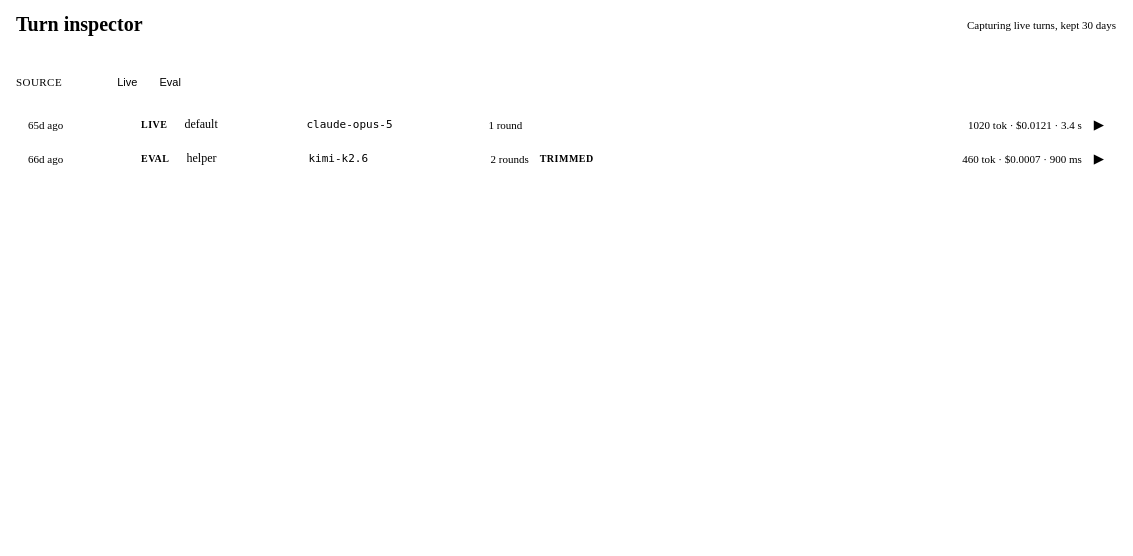
Test: Turn inspector — detail › ignores a detail response for a row that is no longer open
The image size is (1133, 556).
Expected: the element with test id "trace-rows" is shown, top-left (16, 108), bottom-right (1116, 176)
Click the button with test id "trace-row" that starts with "65d ago": click(46, 125) top-left (16, 108), bottom-right (1116, 142)
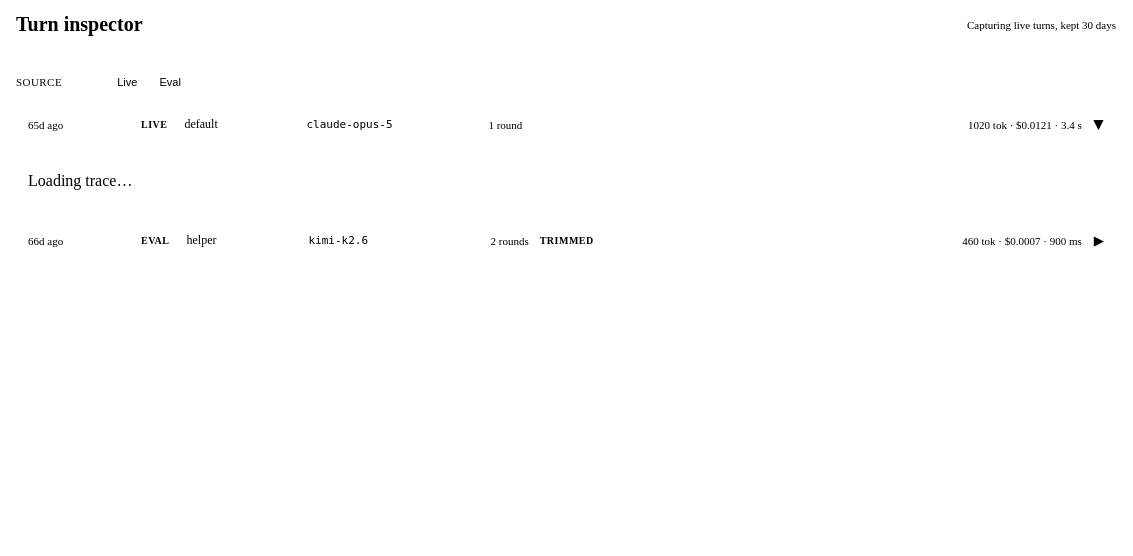
Click the button with test id "trace-row" that starts with "66d ago": click(566, 241) top-left (16, 224), bottom-right (1116, 258)
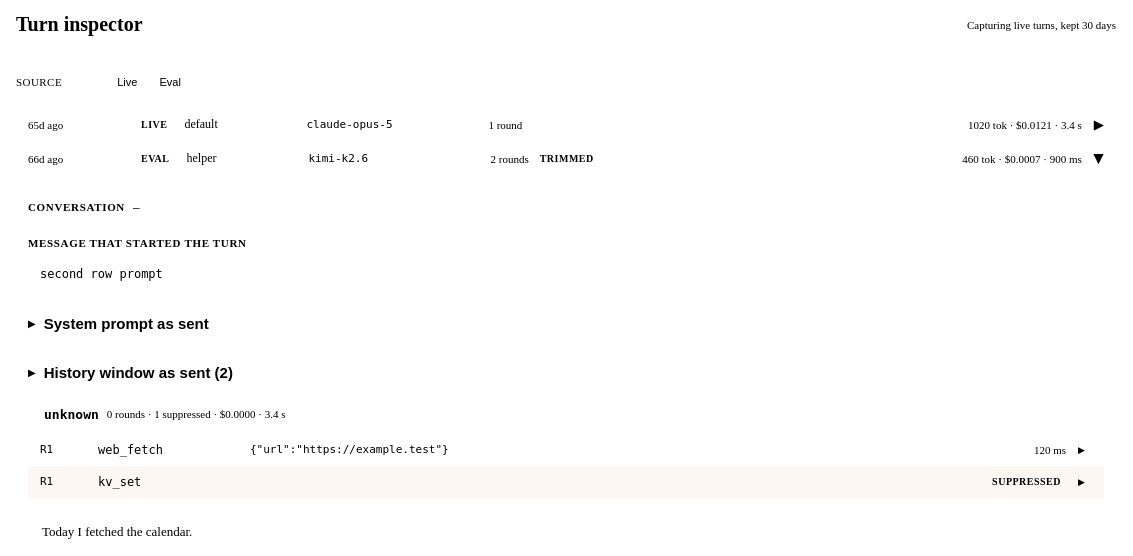
Expected: the text "second row prompt" is shown, top-left (40, 267), bottom-right (163, 281)
